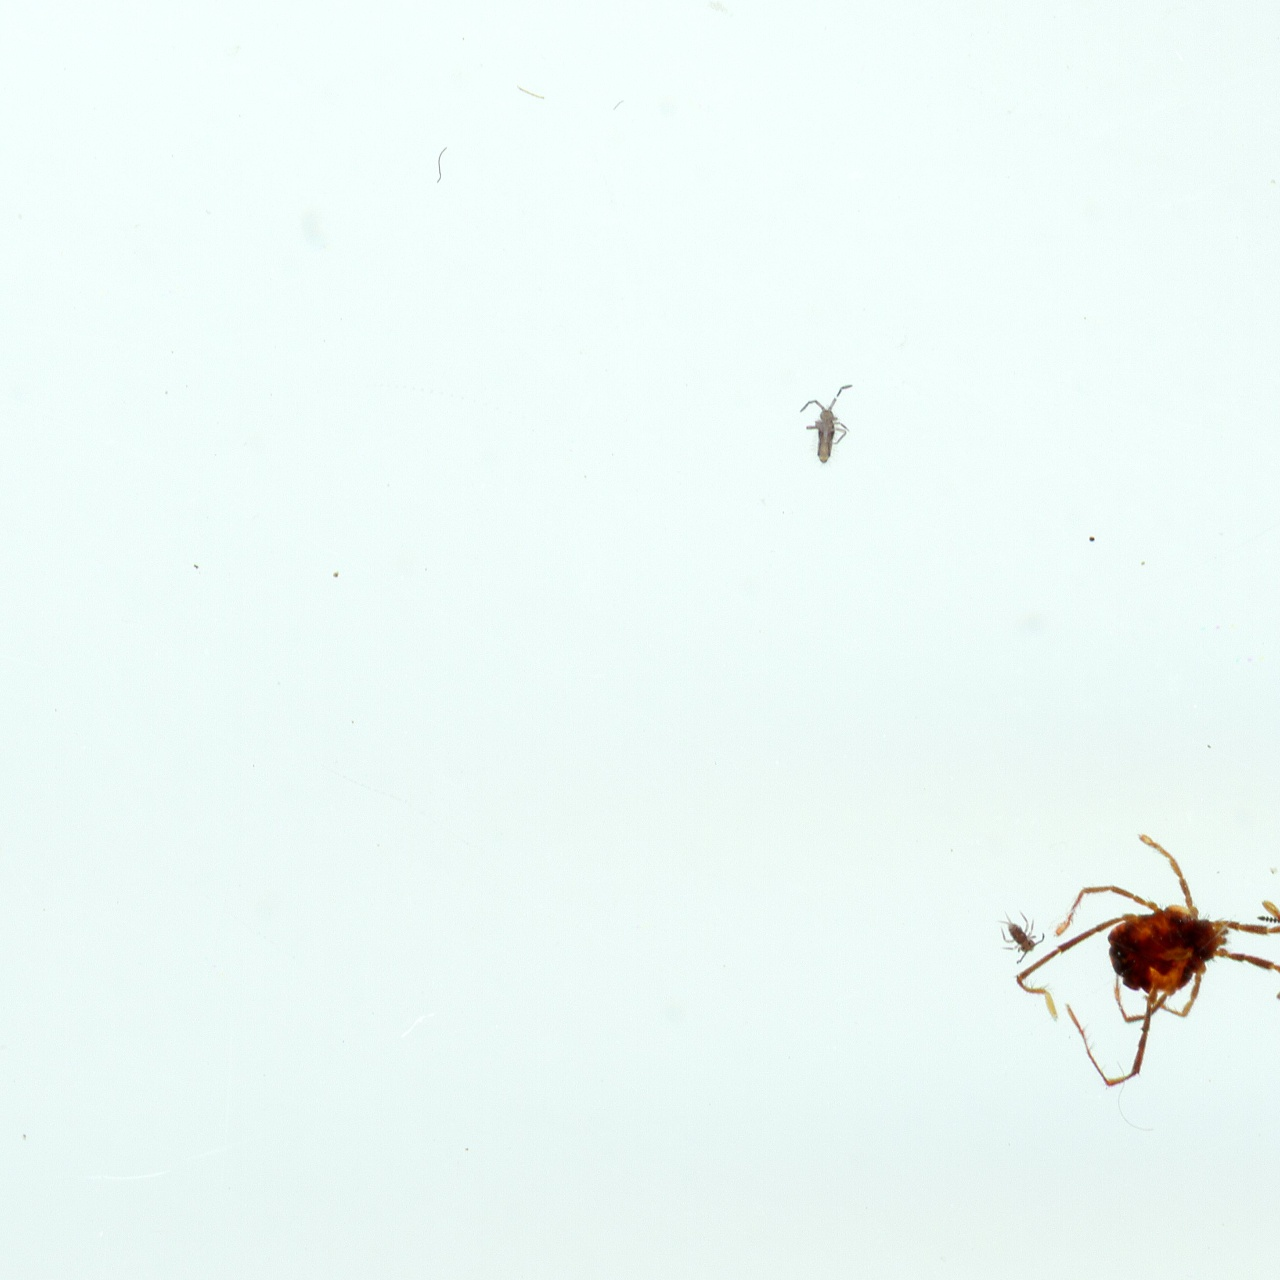arthropod: (988, 799, 1280, 1105), (791, 369, 865, 475), (1250, 876, 1280, 1078), (979, 896, 1051, 969)
